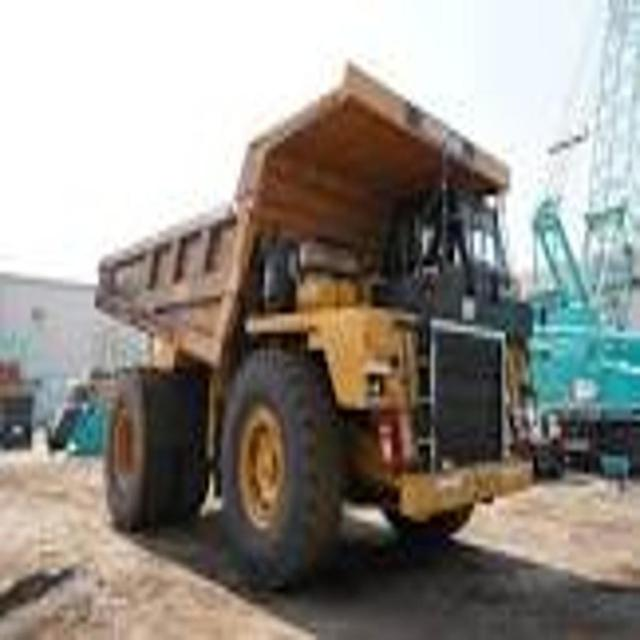dump_truck: (93, 56, 541, 589)
